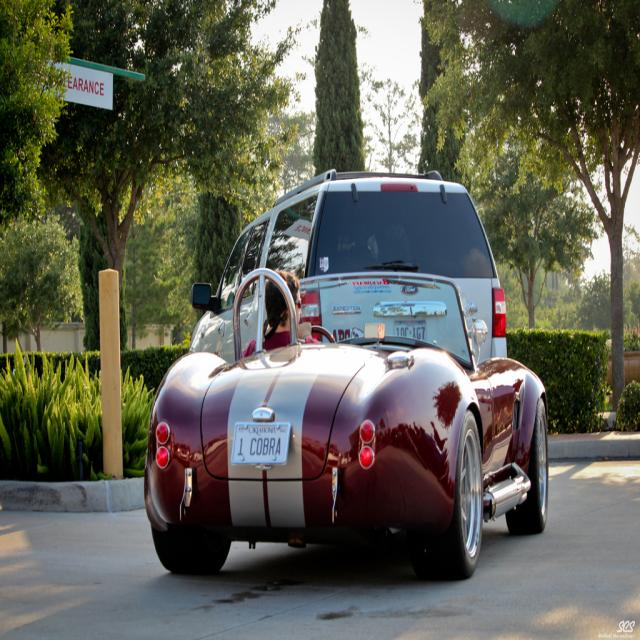car: (185, 165, 520, 514)
